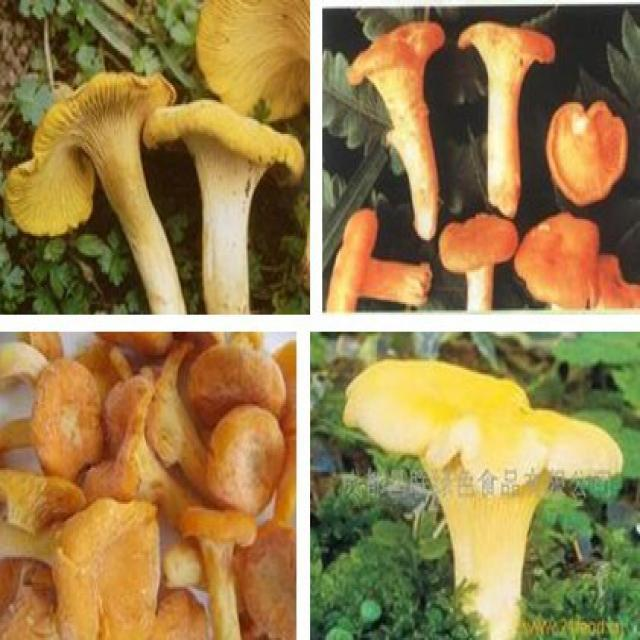Cantharellus cibarius: (0, 334, 297, 631), (344, 361, 620, 632), (7, 71, 183, 314), (147, 104, 305, 318), (348, 25, 445, 243), (457, 19, 552, 219), (512, 211, 640, 309), (328, 212, 433, 310), (550, 97, 629, 207), (436, 216, 517, 310)
